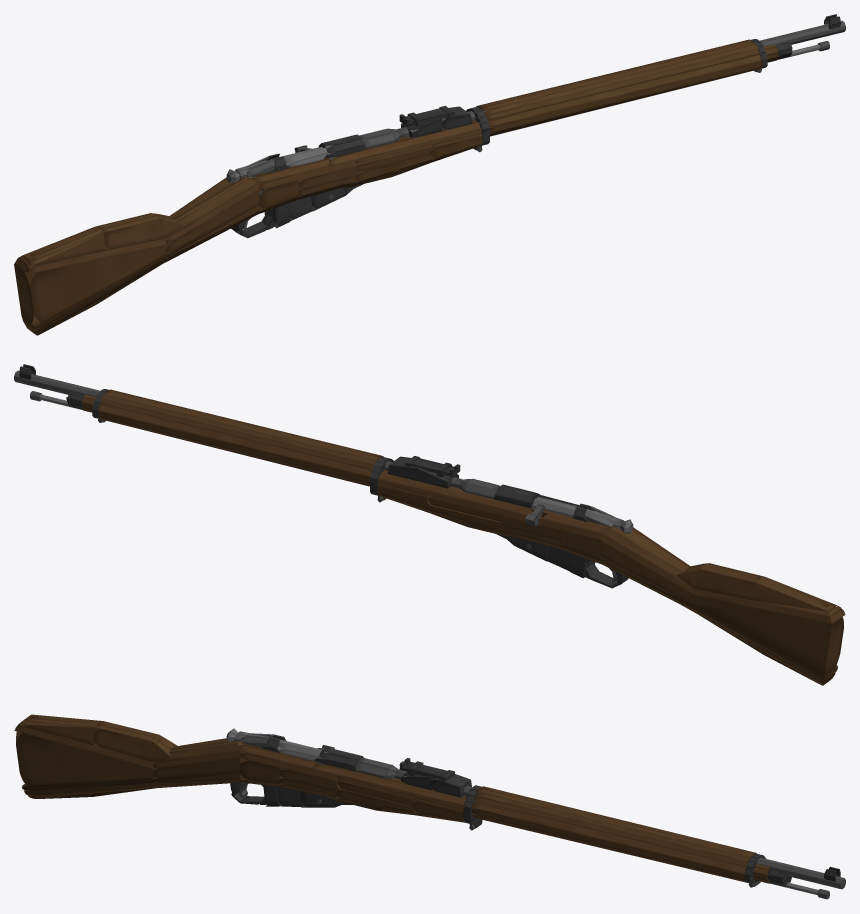
Rendered from mosinnagant.obj.
3 renders of one model, top to bottom at view 1: azimuth 30°, elevation 25°; view 2: azimuth 150°, elevation 25°; view 3: azimuth 330°, elevation 25°, orthographic.
Visible parts, largest first — view 1: gunModel32, gunModel95, gunModel90, gunModel89, gunModel93, gunModel94, gunModel50, gunModel38, gunModel40, gunModel27, gunModel39, gunModel46 (+10 smaller); view 2: gunModel32, gunModel95, gunModel90, gunModel89, gunModel93, gunModel94, gunModel50, gunModel38, gunModel40, gunModel27, gunModel39, gunModel46 (+10 smaller); view 3: gunModel32, gunModel95, gunModel90, gunModel89, gunModel93, gunModel94, gunModel50, gunModel40, gunModel27, gunModel38, gunModel39, gunModel98 (+28 smaller).
Part boxes in pixels (<box>): gunModel32: <box>14,245,166,325</box>; gunModel95: <box>477,39,755,110</box>; gunModel90: <box>488,55,761,126</box>; gunModel89: <box>490,61,761,133</box>; gunModel93: <box>486,49,759,119</box>; gunModel94: <box>476,44,757,115</box>; gunModel50: <box>328,120,481,166</box>; gunModel38: <box>14,238,166,274</box>; gunModel40: <box>101,219,165,250</box>; gunModel27: <box>166,191,259,254</box>; gunModel39: <box>18,233,105,266</box>; gunModel46: <box>169,175,249,221</box>; gunModel32: <box>693,595,843,675</box>; gunModel95: <box>104,389,382,460</box>; gunModel90: <box>98,405,371,477</box>; gunModel89: <box>98,411,369,483</box>; gunModel93: <box>100,399,373,469</box>; gunModel94: <box>102,394,383,465</box>; gunModel50: <box>378,470,532,515</box>; gunModel38: <box>693,588,845,624</box>; gunModel40: <box>694,569,761,600</box>; gunModel27: <box>600,541,693,604</box>; gunModel39: <box>754,583,841,616</box>; gunModel46: <box>610,526,690,571</box>; gunModel32: <box>16,725,154,785</box>; gunModel95: <box>477,786,755,857</box>; gunModel90: <box>472,803,745,874</box>; gunModel89: <box>471,803,745,880</box>; gunModel93: <box>474,797,747,867</box>; gunModel94: <box>475,788,756,862</box>; gunModel50: <box>312,763,466,805</box>; gunModel40: <box>93,724,154,762</box>; gunModel27: <box>152,758,249,778</box>; gunModel38: <box>14,724,153,769</box>; gunModel39: <box>18,718,95,744</box>; gunModel98: <box>472,814,745,882</box>.
Bounding box in the file's own units: 27.3 × 4 × 1.45.
